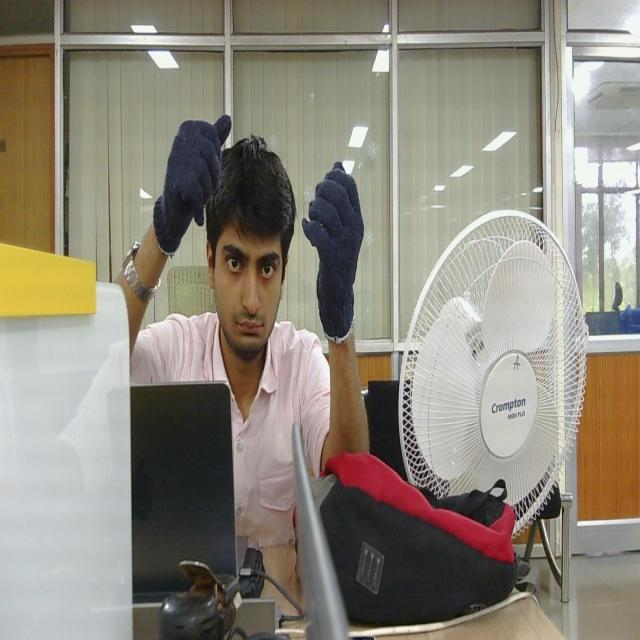Gloves-Detection: (300, 157, 364, 343), (152, 109, 231, 255)
